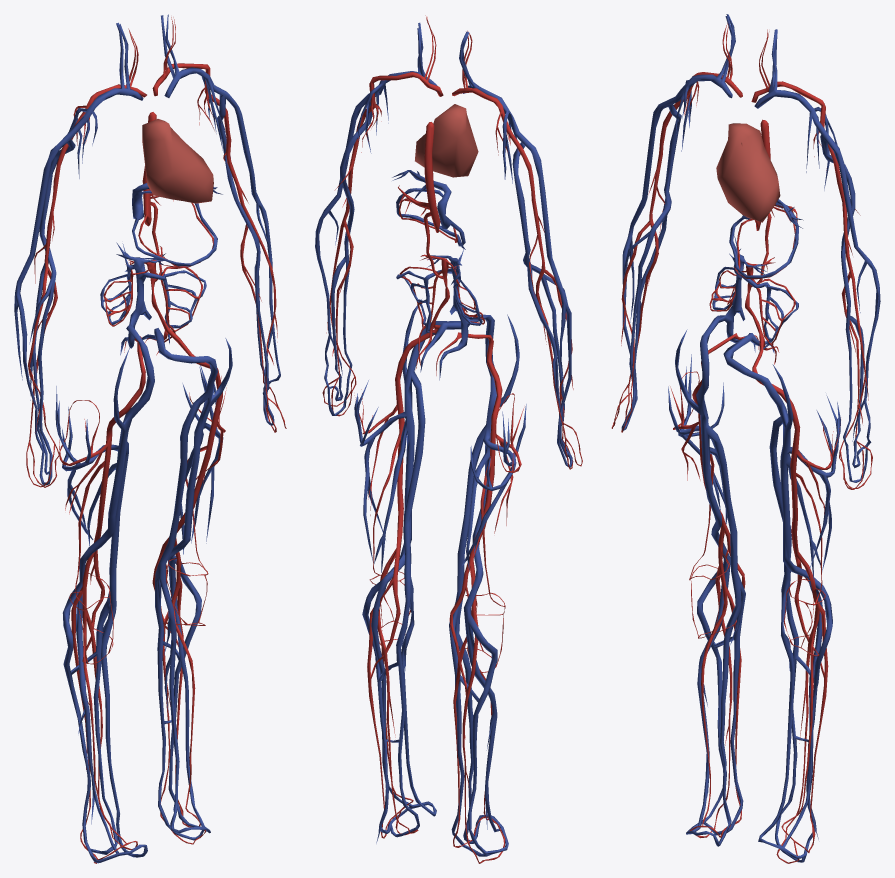
Rendered from pediatric_adolescent_female.cardiovascular.LOD3.glb.
3 renders of one model, left to right at view 1: azimuth 30°, elevation 25°; view 2: azimuth 150°, elevation 25°; view 3: azimuth 330°, elevation 25°, orthographic.
Parts seen in each view (by area): view 1: PEDIATRIC.ADOLESCENT.FEMALE.CARDIOVASCULAR.BLOOD_IN_LARGE_VE, PEDIATRIC.ADOLESCENT.FEMALE.CARDIOVASCULAR.BLOOD_IN_LARGE_AR, PEDIATRIC.ADOLESCENT.FEMALE.CARDIOVASCULAR.HEART_WALL; view 2: PEDIATRIC.ADOLESCENT.FEMALE.CARDIOVASCULAR.BLOOD_IN_LARGE_VE, PEDIATRIC.ADOLESCENT.FEMALE.CARDIOVASCULAR.BLOOD_IN_LARGE_AR, PEDIATRIC.ADOLESCENT.FEMALE.CARDIOVASCULAR.HEART_WALL; view 3: PEDIATRIC.ADOLESCENT.FEMALE.CARDIOVASCULAR.BLOOD_IN_LARGE_VE, PEDIATRIC.ADOLESCENT.FEMALE.CARDIOVASCULAR.BLOOD_IN_LARGE_AR, PEDIATRIC.ADOLESCENT.FEMALE.CARDIOVASCULAR.HEART_WALL.
Boxes of the visible parts, bbox=[...] form: PEDIATRIC.ADOLESCENT.FEMALE.CARDIOVASCULAR.BLOOD_IN_LARGE_VE: bbox=[14, 14, 280, 863]; PEDIATRIC.ADOLESCENT.FEMALE.CARDIOVASCULAR.BLOOD_IN_LARGE_AR: bbox=[26, 17, 286, 863]; PEDIATRIC.ADOLESCENT.FEMALE.CARDIOVASCULAR.HEART_WALL: bbox=[142, 119, 213, 203]; PEDIATRIC.ADOLESCENT.FEMALE.CARDIOVASCULAR.BLOOD_IN_LARGE_VE: bbox=[315, 22, 572, 856]; PEDIATRIC.ADOLESCENT.FEMALE.CARDIOVASCULAR.BLOOD_IN_LARGE_AR: bbox=[322, 15, 582, 863]; PEDIATRIC.ADOLESCENT.FEMALE.CARDIOVASCULAR.HEART_WALL: bbox=[415, 104, 478, 177]; PEDIATRIC.ADOLESCENT.FEMALE.CARDIOVASCULAR.BLOOD_IN_LARGE_VE: bbox=[621, 14, 880, 862]; PEDIATRIC.ADOLESCENT.FEMALE.CARDIOVASCULAR.BLOOD_IN_LARGE_AR: bbox=[611, 23, 872, 863]; PEDIATRIC.ADOLESCENT.FEMALE.CARDIOVASCULAR.HEART_WALL: bbox=[716, 123, 780, 222].
Size of the model in its own units: 0.4631 by 1.45 by 0.1709.
